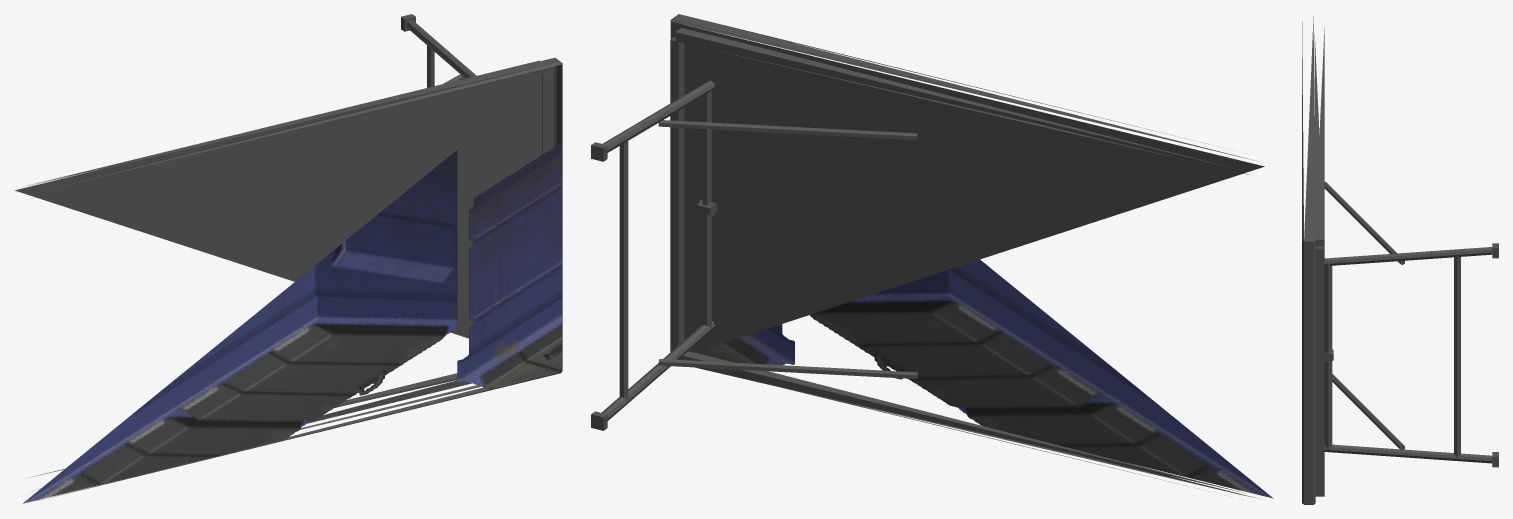
3 views of the same model, side by side, from view 1: azimuth 30°, elevation 25°; view 2: azimuth 150°, elevation 25°; view 3: azimuth 270°, elevation 25° (orthographic). The views are drawn at different scales.
Bounding box in the file's own units: 1.76 × 0.97 × 0.65.
